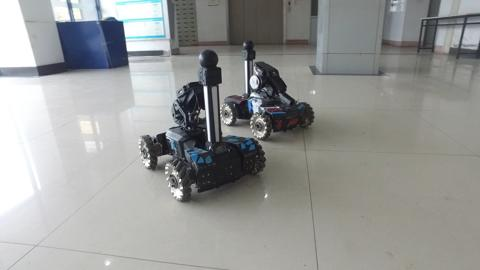chariot: (134, 52, 271, 201), (218, 40, 316, 148)
